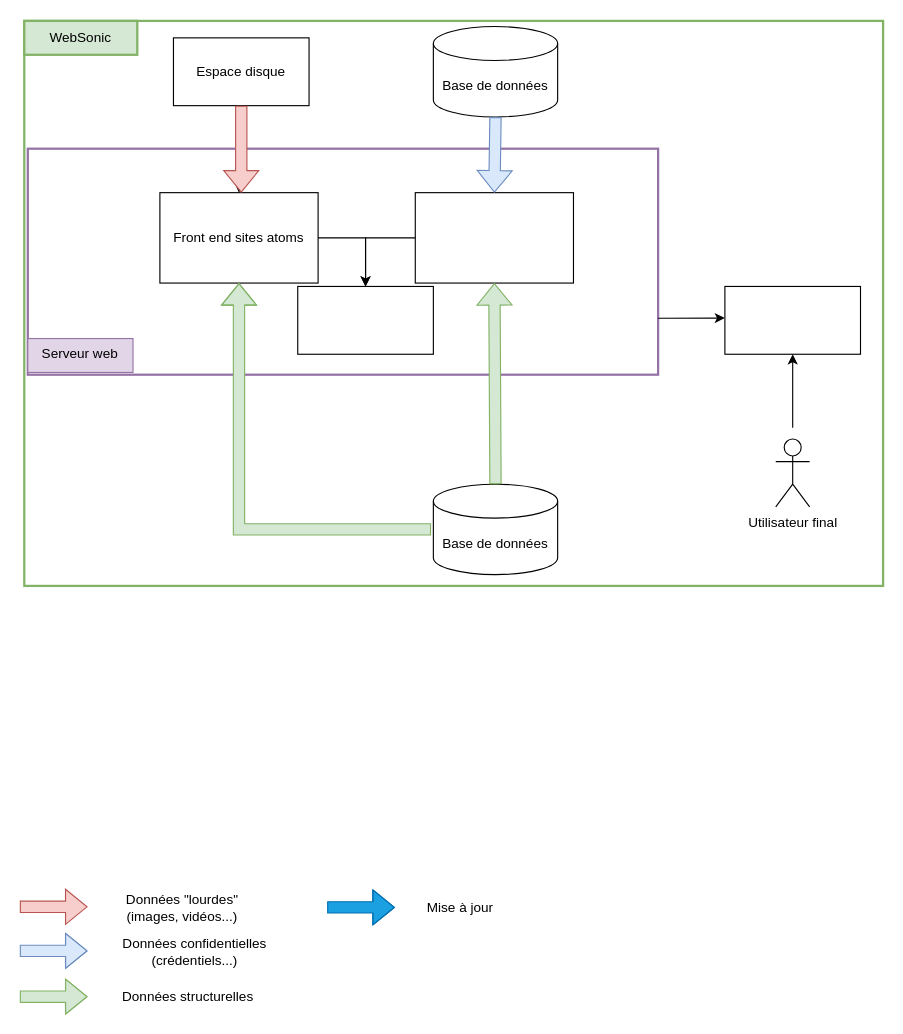
Image size: 903x1034. Some labels were removed from this diagram. Each missing label, with the box of its shape:
Back end sites atoms: (414, 192, 573, 283)
Site web: (724, 285, 860, 354)
Templates: (297, 285, 433, 354)
